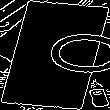O_W: (4, 30, 106, 80)
